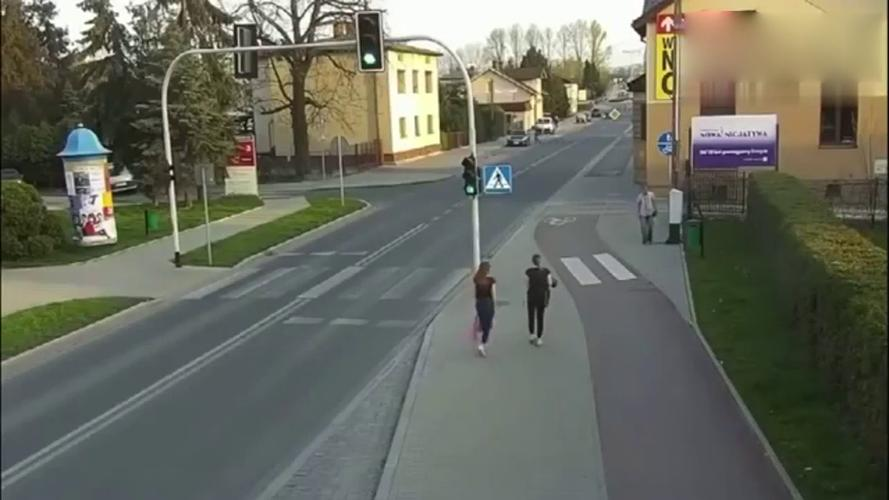car: (533, 115, 559, 134), (505, 132, 533, 146)
person: (523, 261, 553, 335), (475, 261, 497, 358), (638, 185, 659, 245)
sign: (484, 165, 516, 192), (655, 13, 679, 34), (657, 132, 677, 154)
traffic light: (354, 12, 387, 70), (459, 151, 480, 197)
